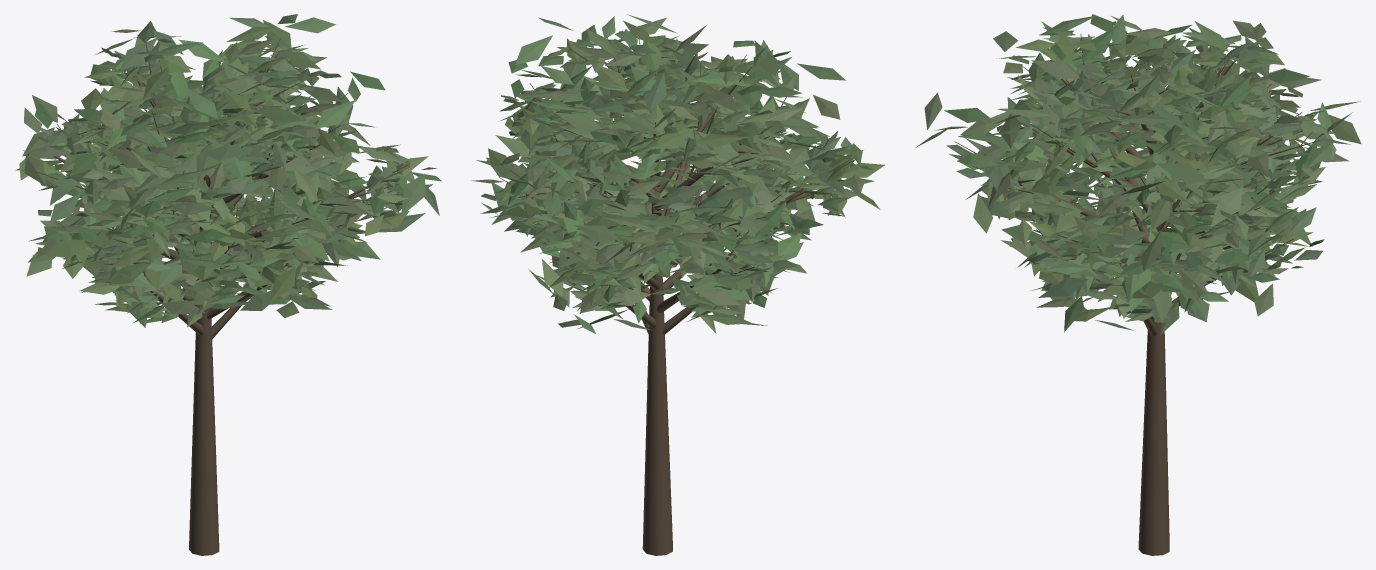
File: Tree2.glb
The picture shows the model from 3 angles, left to right: view 1: azimuth 30°, elevation 25°; view 2: azimuth 150°, elevation 25°; view 3: azimuth 270°, elevation 25°; orthographic projection. The views are drawn at different scales.
Bounding box in the file's own units: 3.09 × 3.92 × 3.05.
